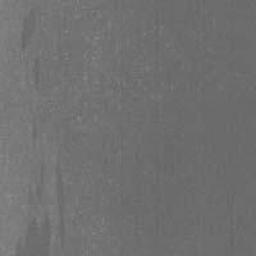Oil spot: (15, 124, 68, 256), (17, 6, 38, 59), (29, 54, 42, 91)
